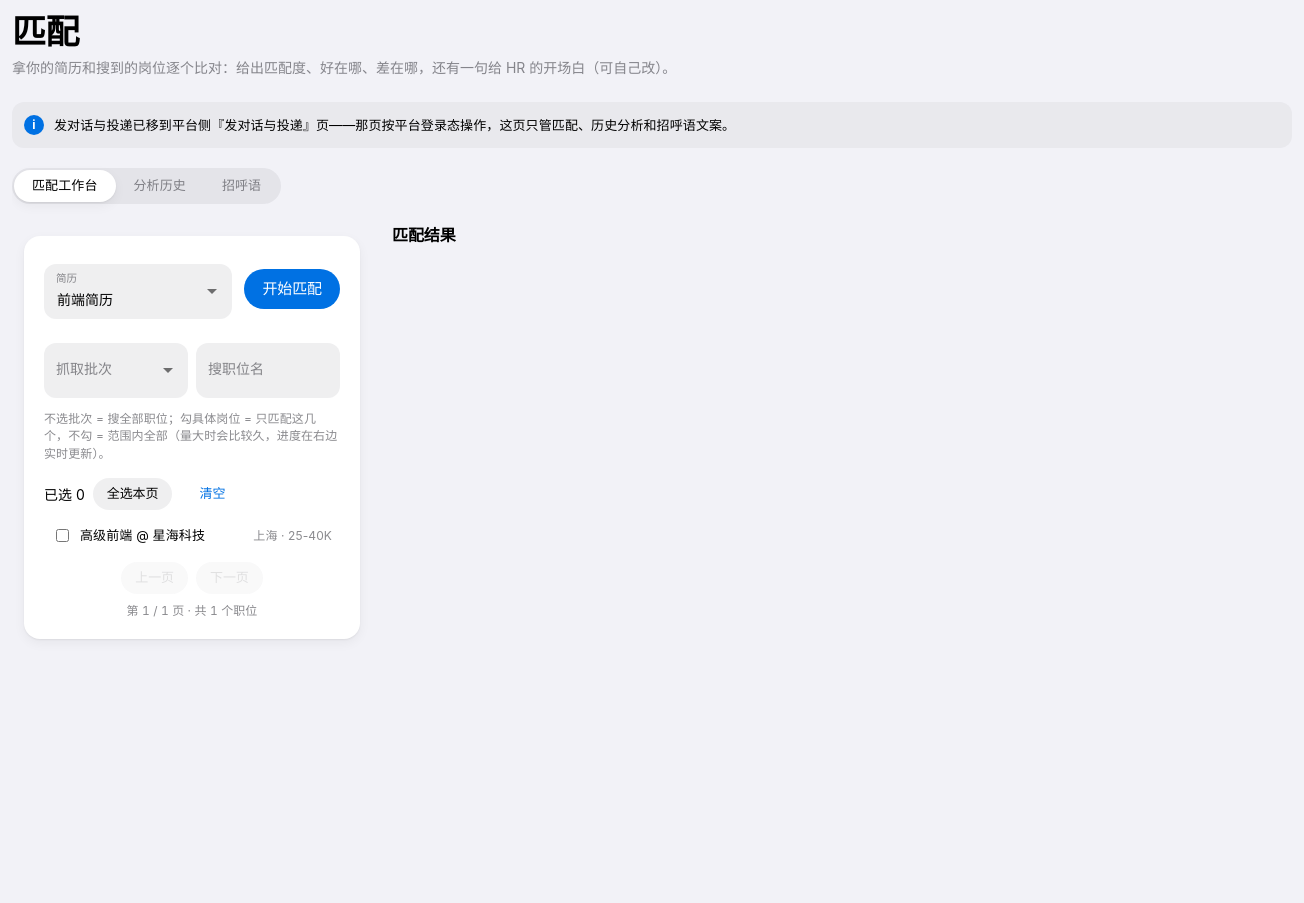
Test: MatchPage 发起匹配 › 不选批次 = 全部职位：POST /api/match/analyze 只带 resume_id，进度接上后出结果
Click the button "开始匹配".
click(292, 289)  # box 244,269 -> 340,309
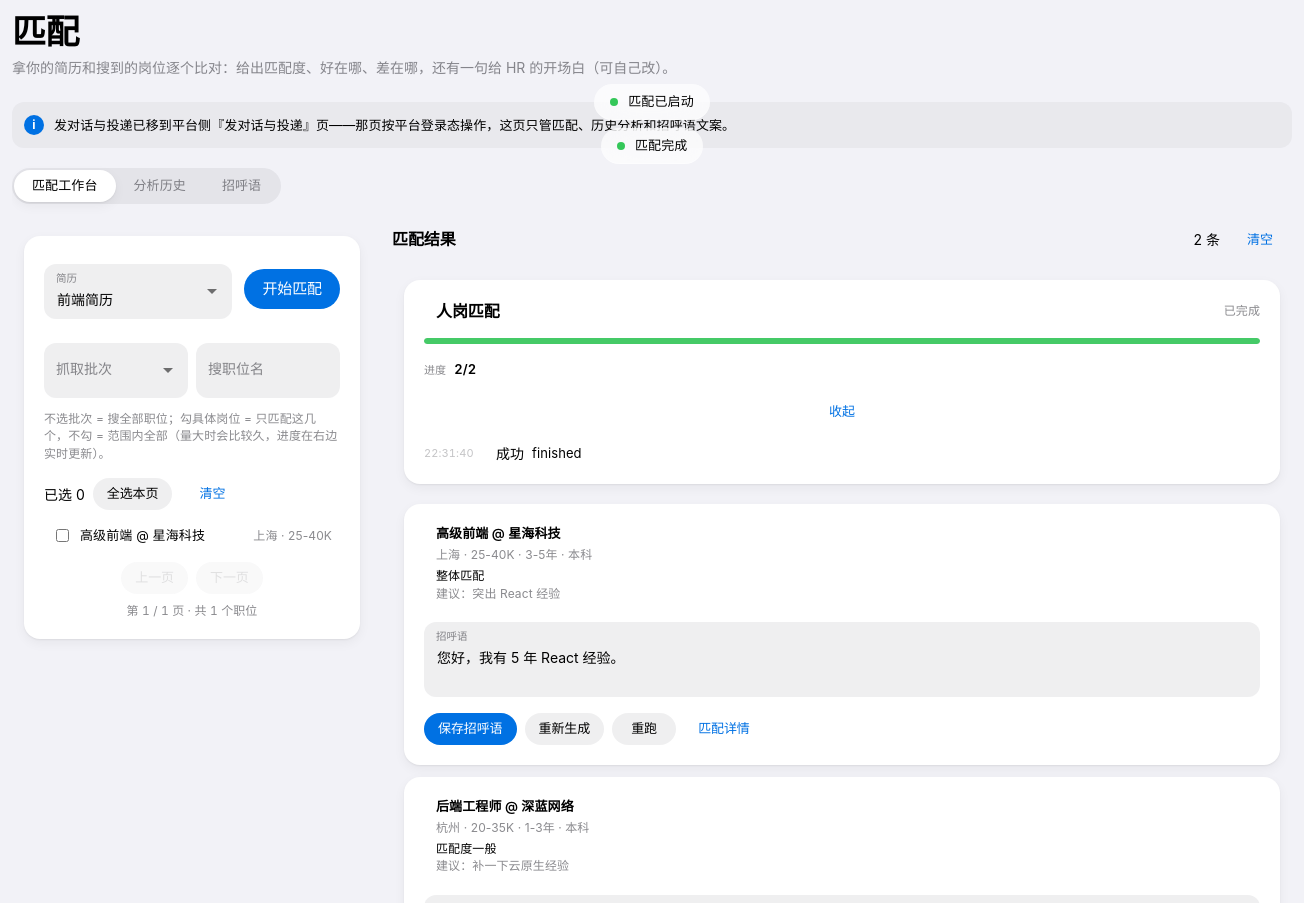
Now the element named "匹配结果 高级前端 星海科技" is shown, box 404,504 -> 1280,765
